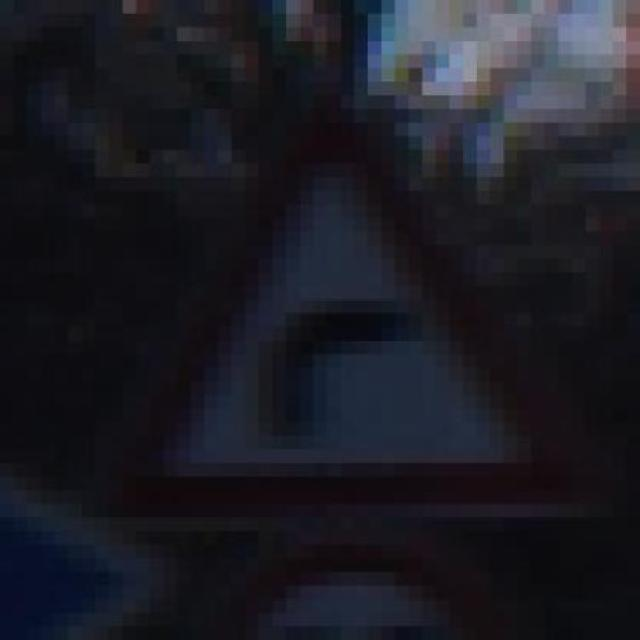Dangerous Rright Curve Ahead: (108, 110, 600, 572)
